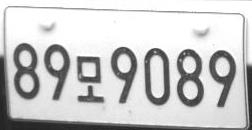0: (143, 47, 170, 105)
8: (175, 48, 204, 108), (12, 41, 40, 100)
9: (208, 49, 237, 107), (110, 46, 137, 104), (43, 43, 70, 100)
모: (76, 55, 104, 102)
